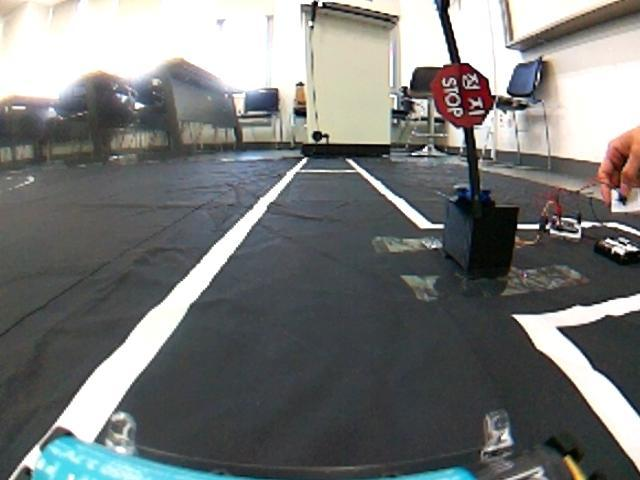sign_stop: (428, 62, 494, 128)
straight: (0, 155, 640, 480)
